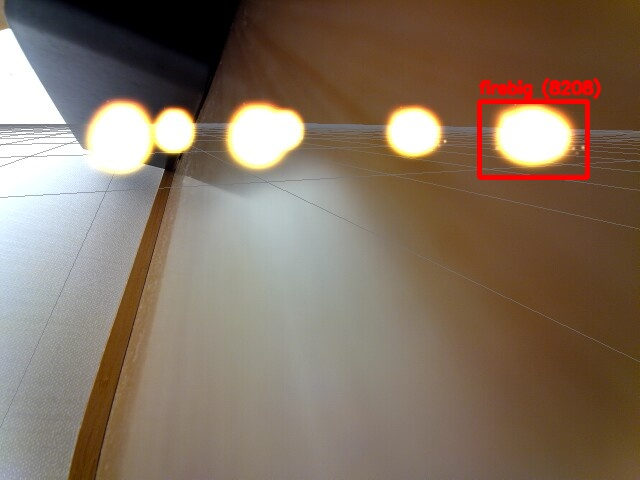firebig: (479, 101, 587, 177)
